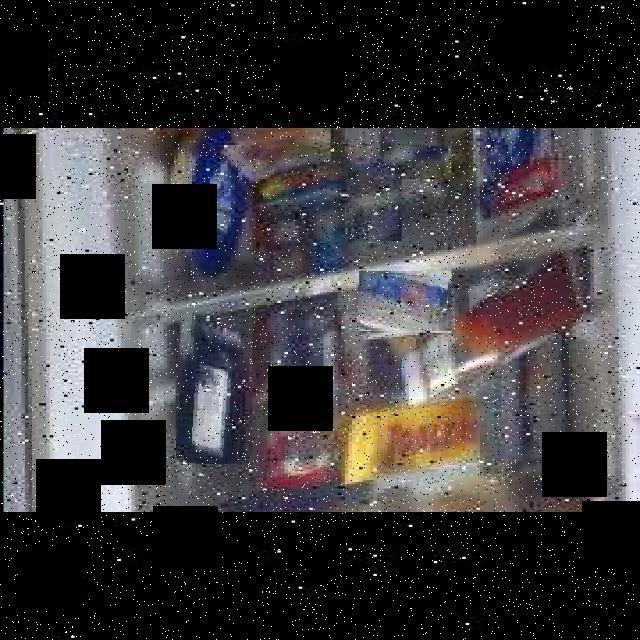cheese: (356, 271, 448, 331), (342, 166, 398, 239)
marmelade: (176, 315, 247, 464)
sausage: (327, 128, 448, 179)
